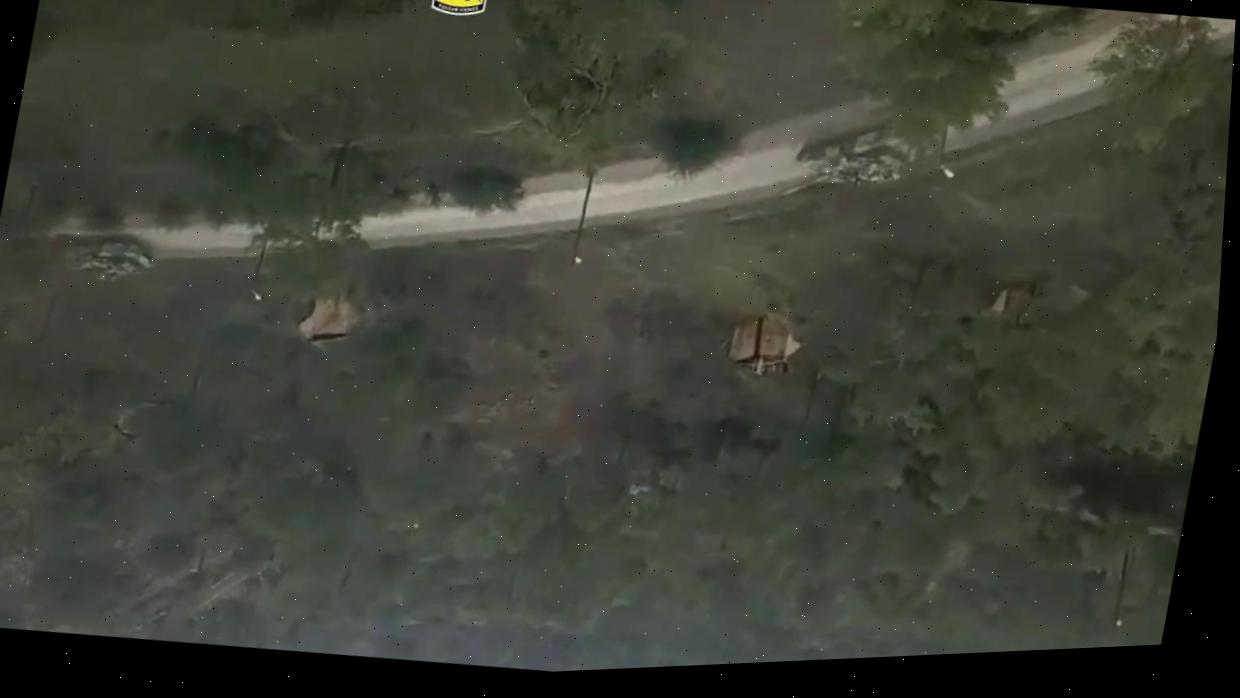tank: (777, 110, 930, 213), (44, 226, 157, 291)
